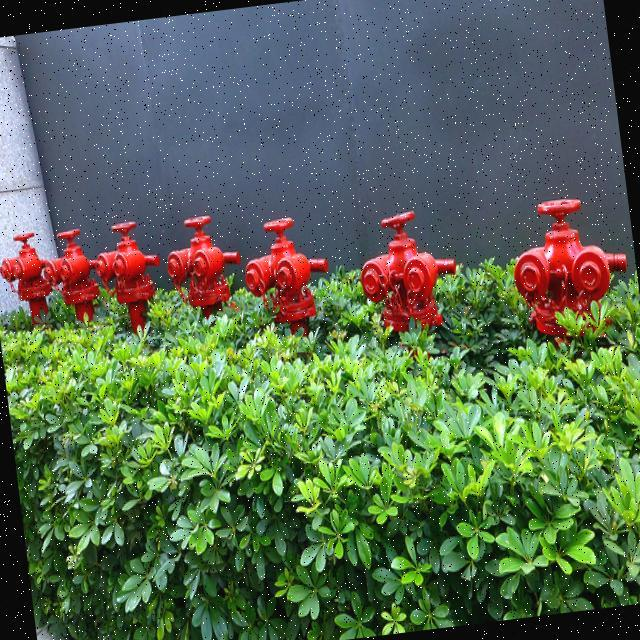fire_hydrant: (504, 190, 636, 354), (354, 206, 461, 334), (238, 212, 336, 350), (88, 216, 168, 340), (162, 209, 248, 319), (38, 226, 104, 326), (0, 230, 60, 333)
